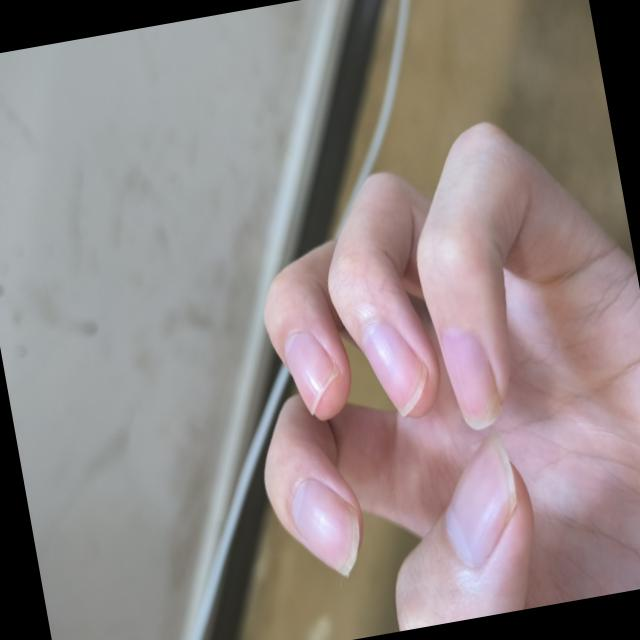Nail: (445, 429, 515, 564), (293, 477, 358, 574), (442, 327, 501, 427), (362, 320, 425, 413), (284, 329, 339, 413)
